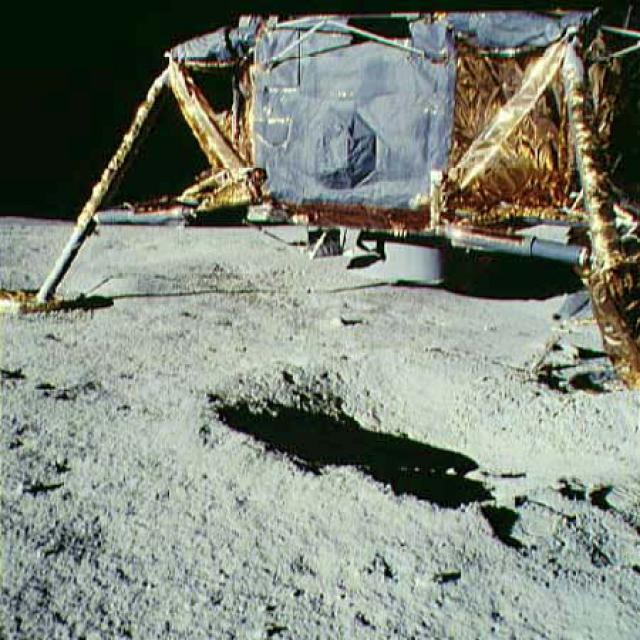crater: (166, 339, 638, 526)
